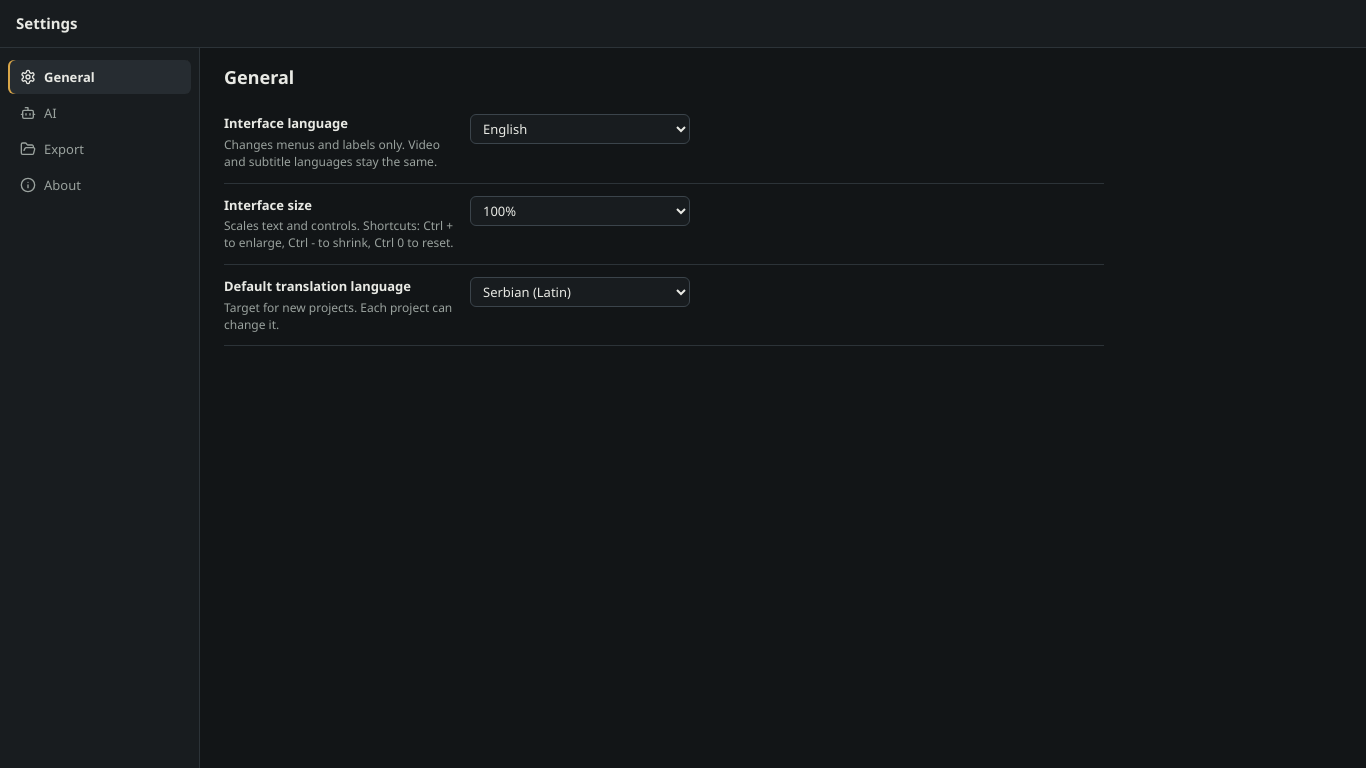
Test case: SettingsPage navigation › loads the About section and shows the app version
Click the button "About". click: (100, 185)
box: [8,168,191,202]
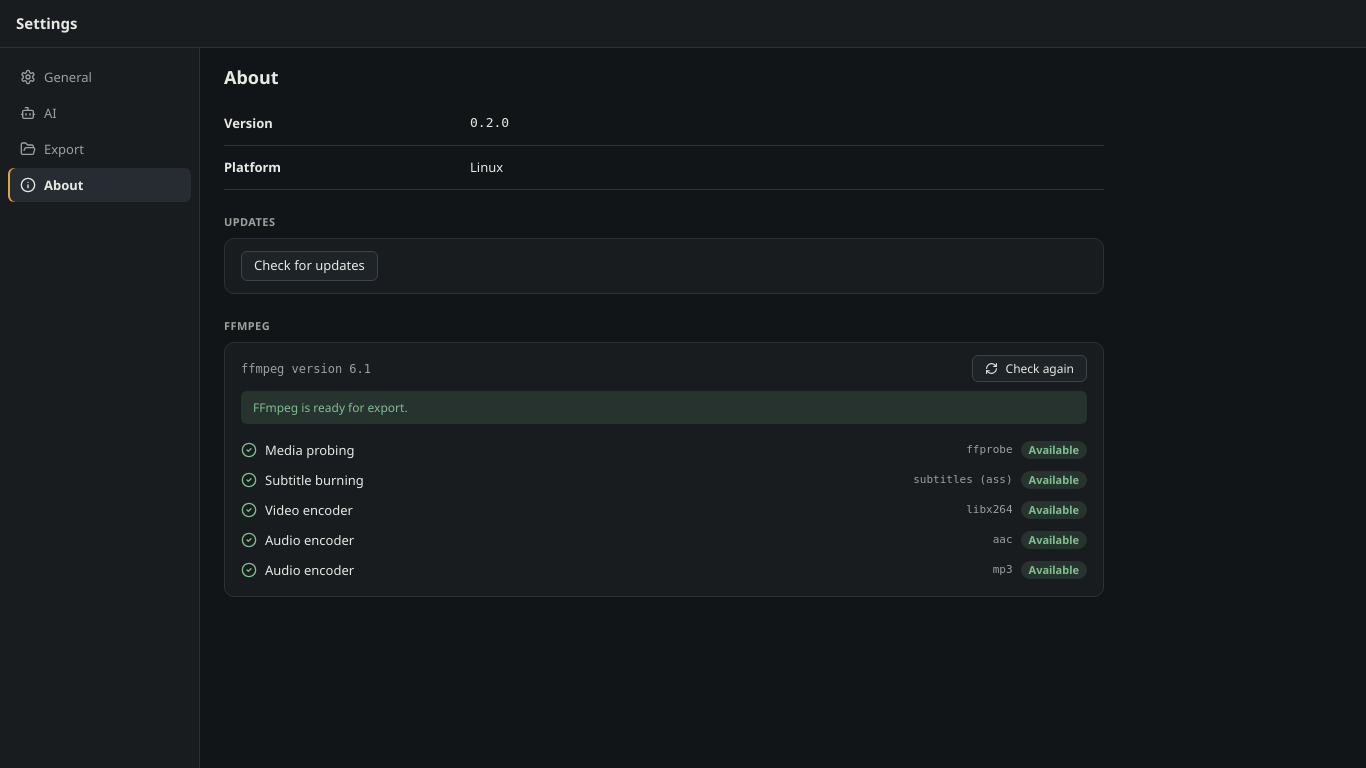
Result: the text "0.2.0" is shown at [470,114,509,133]
Result: the text "Linux" is shown at [470,158,503,177]
